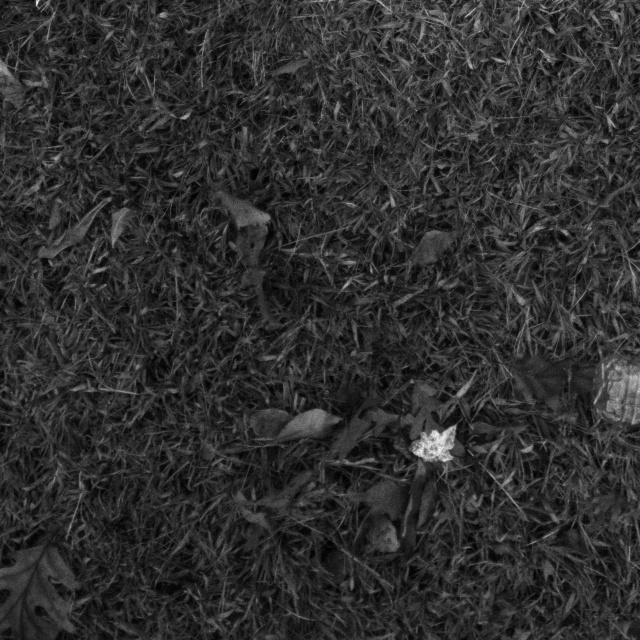bottle: (582, 342, 640, 445)
